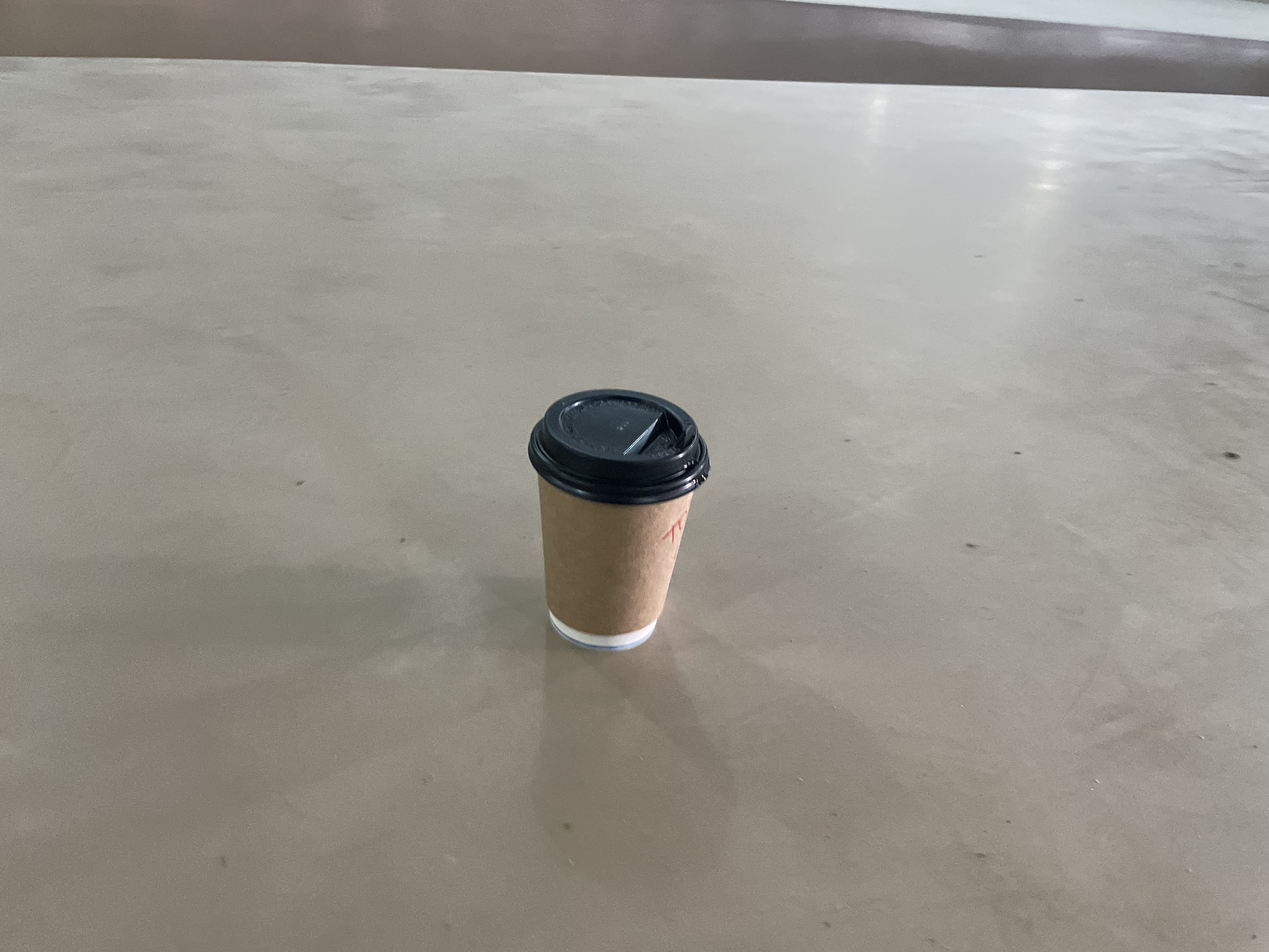cup: (528, 389, 707, 646)
